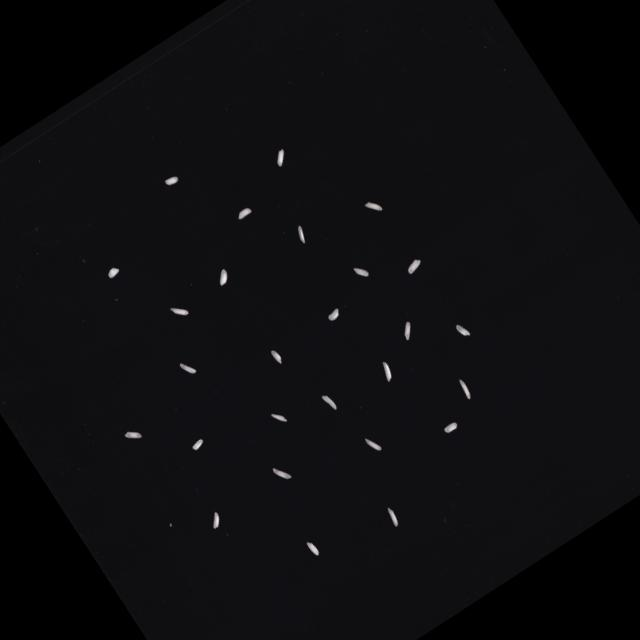Chalky: (270, 462, 290, 484), (168, 300, 188, 322), (362, 434, 382, 454), (397, 321, 416, 341), (363, 196, 382, 216), (178, 357, 196, 378), (376, 361, 394, 382), (320, 392, 338, 412), (122, 426, 142, 444), (456, 378, 472, 400), (453, 320, 470, 340), (212, 268, 230, 286), (271, 148, 289, 166), (352, 262, 369, 281), (403, 257, 422, 274), (304, 538, 320, 558), (384, 507, 400, 527), (206, 511, 223, 529), (292, 224, 308, 243), (270, 408, 286, 427), (268, 347, 283, 365), (324, 307, 340, 322), (235, 206, 252, 220), (163, 173, 179, 187), (189, 438, 205, 452), (442, 420, 458, 434), (105, 266, 120, 280)
